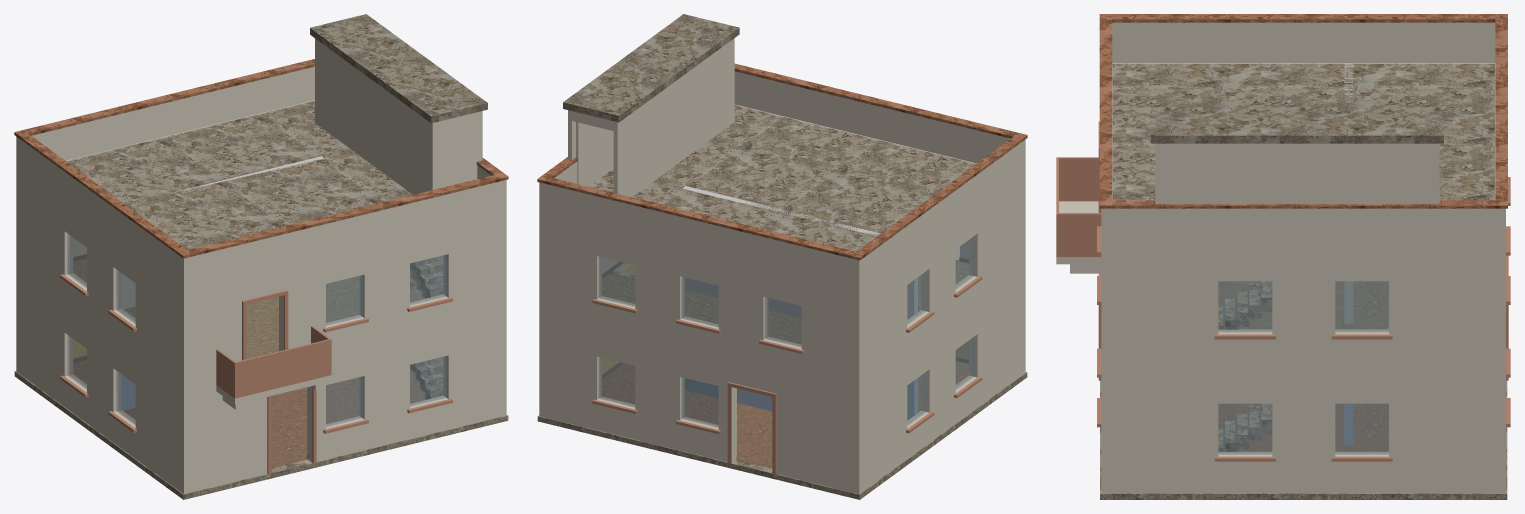
File: bay-villa-cream.coast-v2.lod0.glb
The picture shows the model from 3 angles, left to right: view 1: azimuth 30°, elevation 25°; view 2: azimuth 150°, elevation 25°; view 3: azimuth 270°, elevation 25°; orthographic projection. The views are drawn at different scales.
Parts seen in each view (by area): view 1: bay-villa-cream; view 2: bay-villa-cream; view 3: bay-villa-cream.
Part boxes in pixels (left/top/right/bottom): bay-villa-cream: left=14, top=14, right=508, bottom=499; bay-villa-cream: left=537, top=14, right=1027, bottom=499; bay-villa-cream: left=1056, top=14, right=1510, bottom=499.
Bounding box in the file's own units: 10.2 × 8.95 × 10.1.
4 materials, 2 textured.
